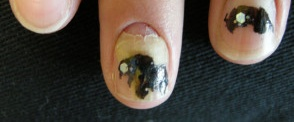SJS-TEN: (82, 0, 211, 122), (209, 0, 287, 69)
